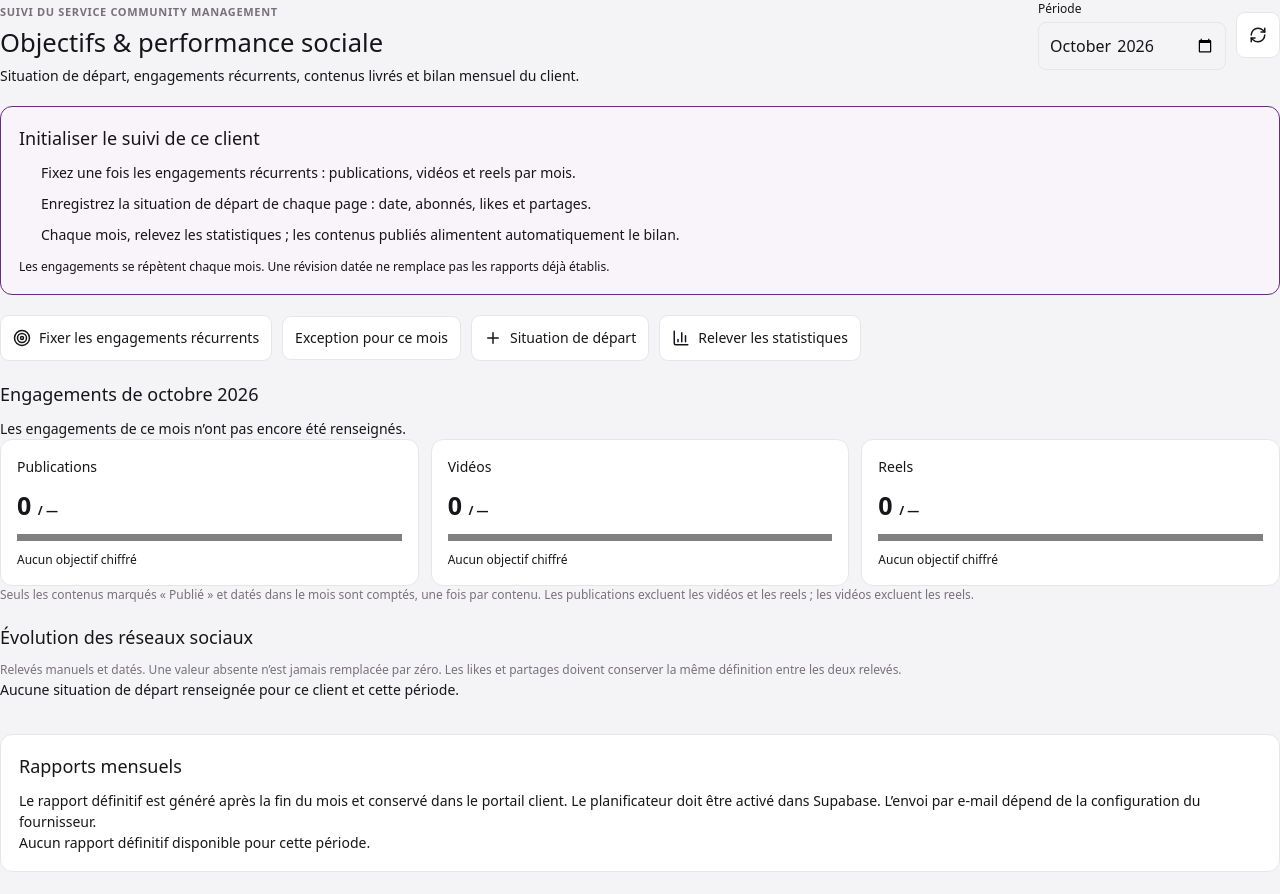
it: tableau de bord contractuel du client › enregistre un contrat une fois, sans le transformer en objectif uniquement mensuel
Step 1. Click the button "Fixer les engagements récurrents" → (136, 338), box [0,315,272,361]
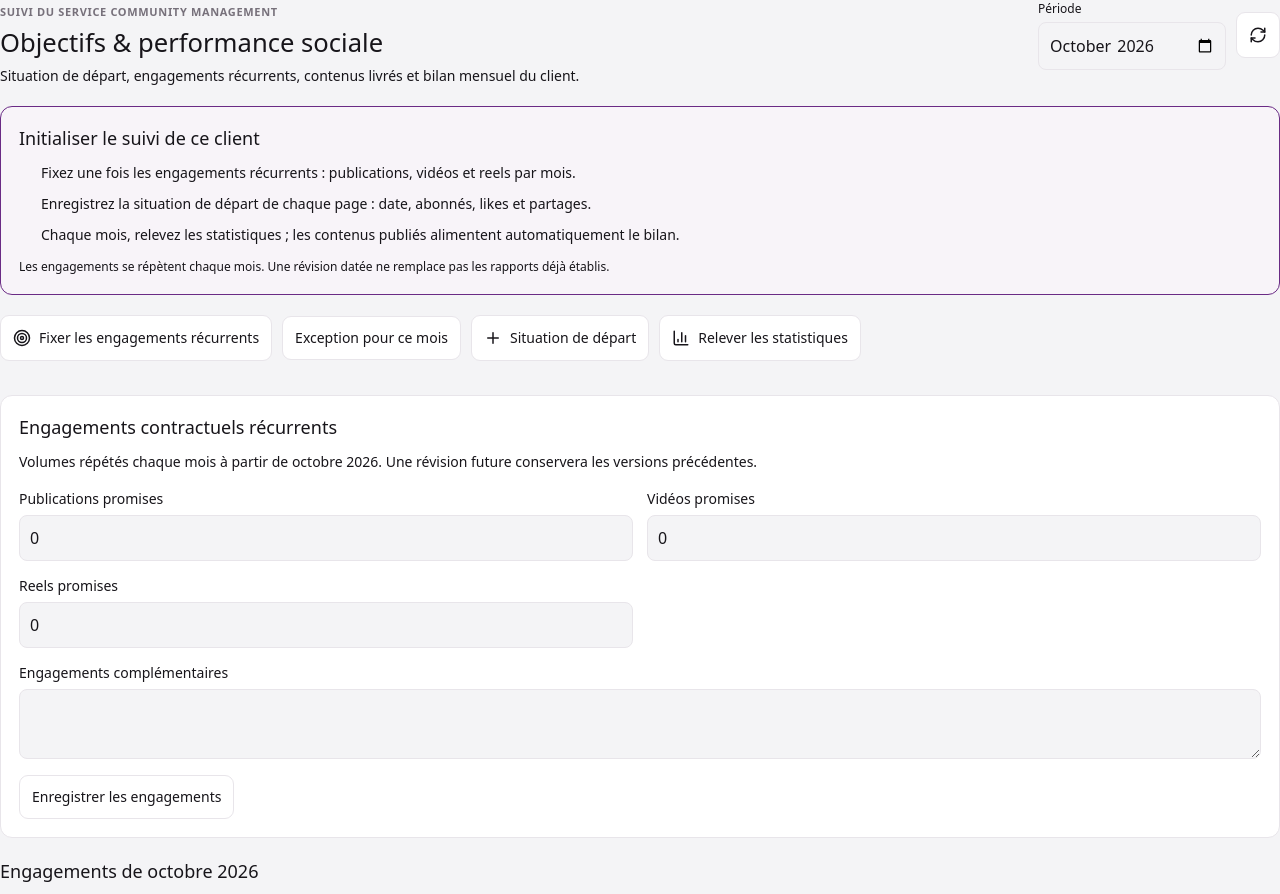
Step 2. Replace the text in the number field labelled "Publications promises" with "12" → (326, 538), box [19,515,633,561]
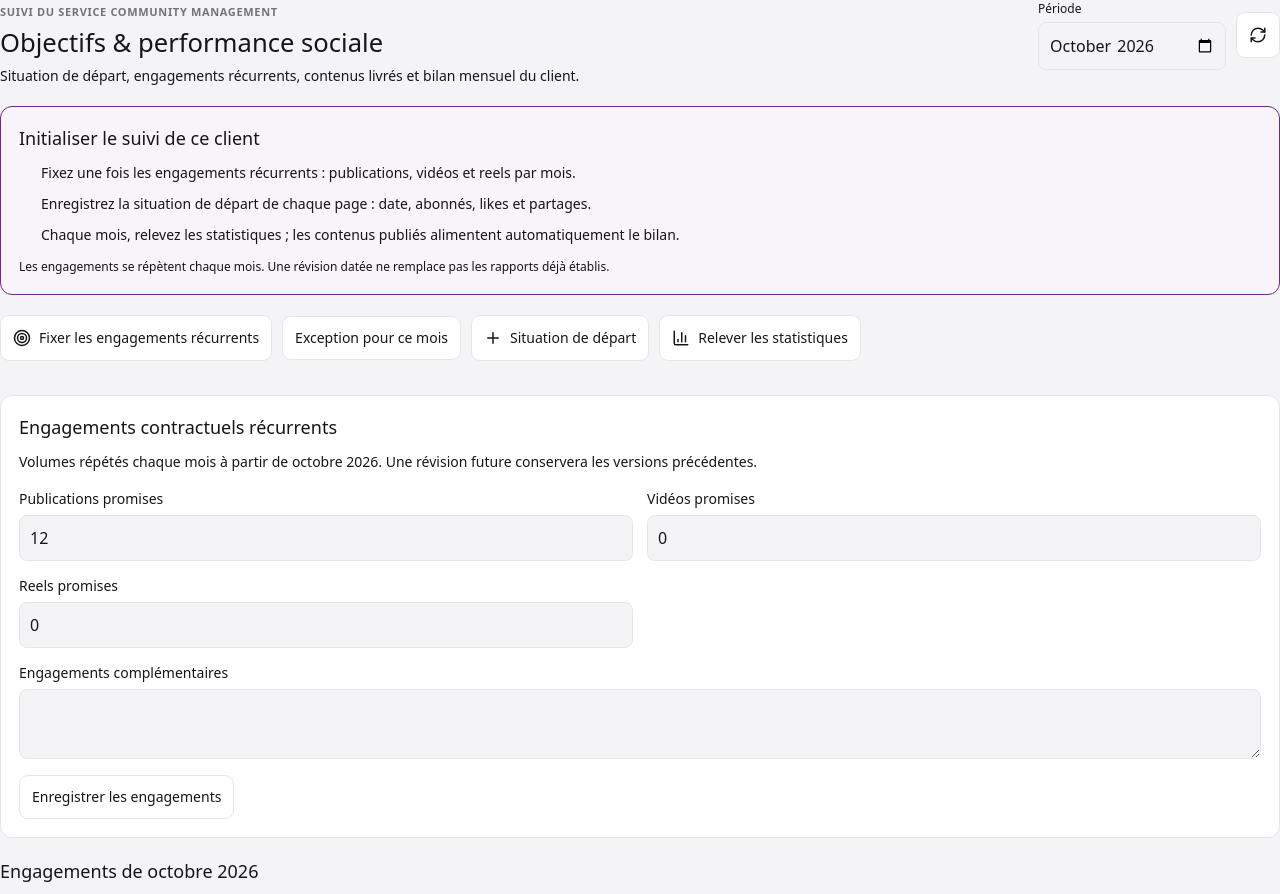
Step 3. Replace the text in the number field labelled "Vidéos promises" with "2" → (954, 538), box [647,515,1261,561]
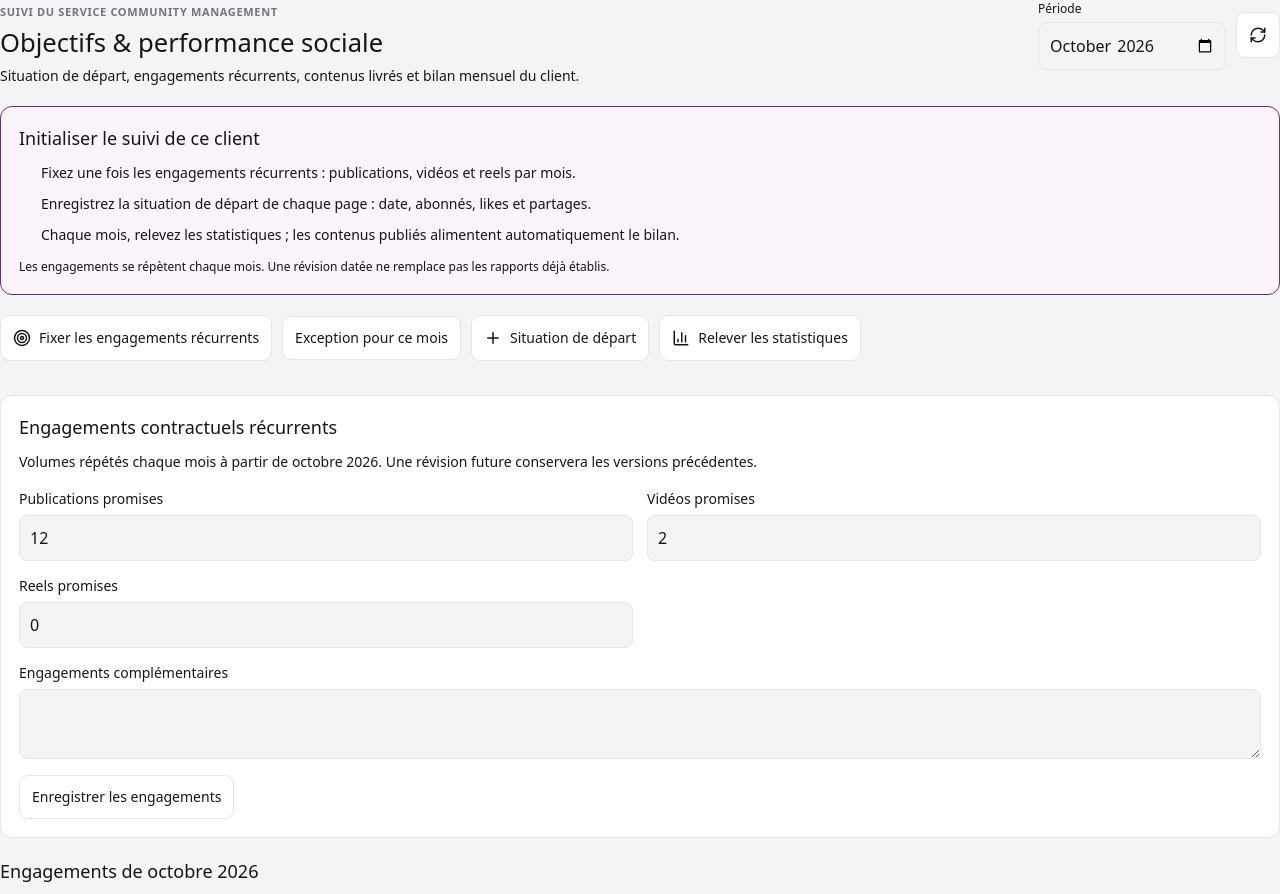
Step 4. Replace the text in the number field labelled "Reels promises" with "4" → (326, 625), box [19,602,633,648]
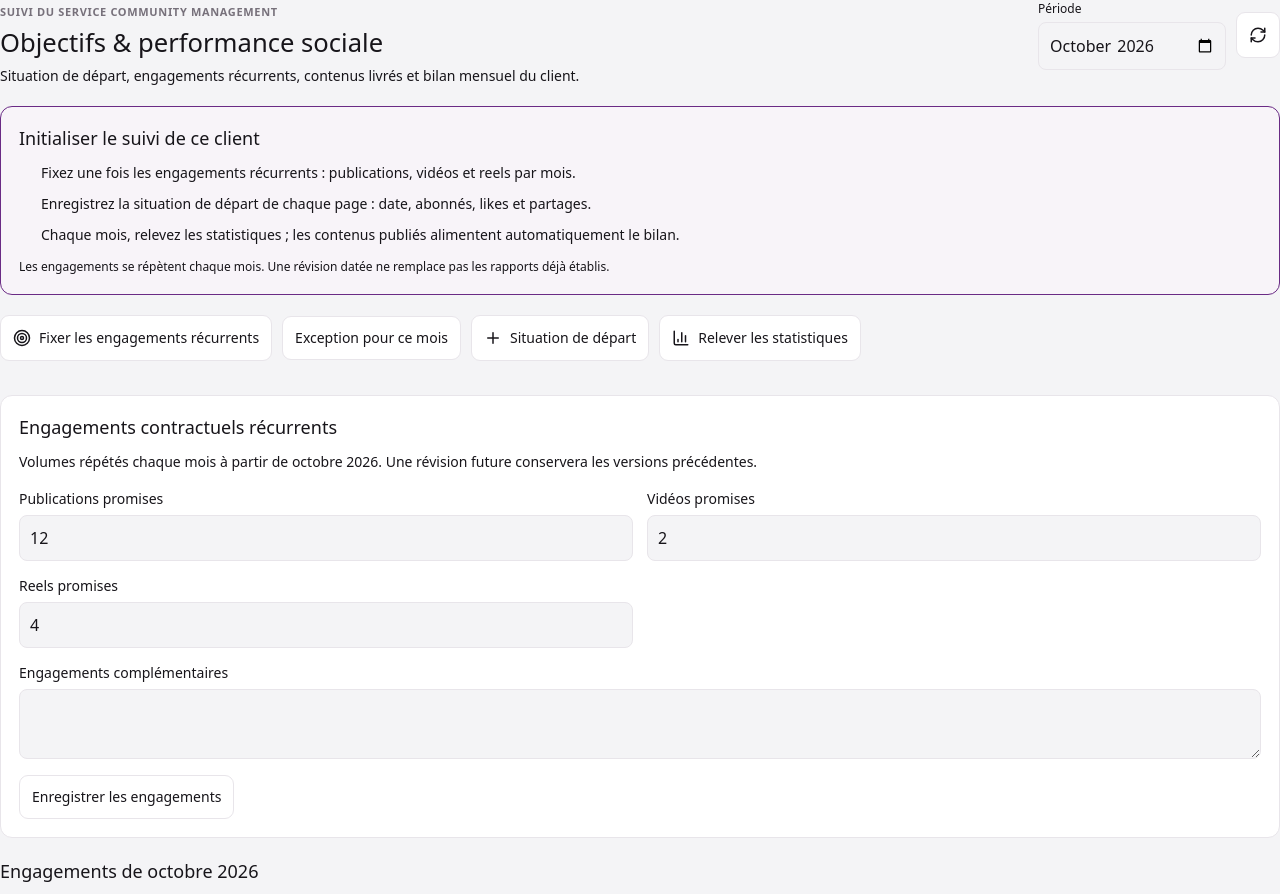
Step 5. Click the button "Enregistrer les engagements" → (127, 797), box [19,775,234,819]
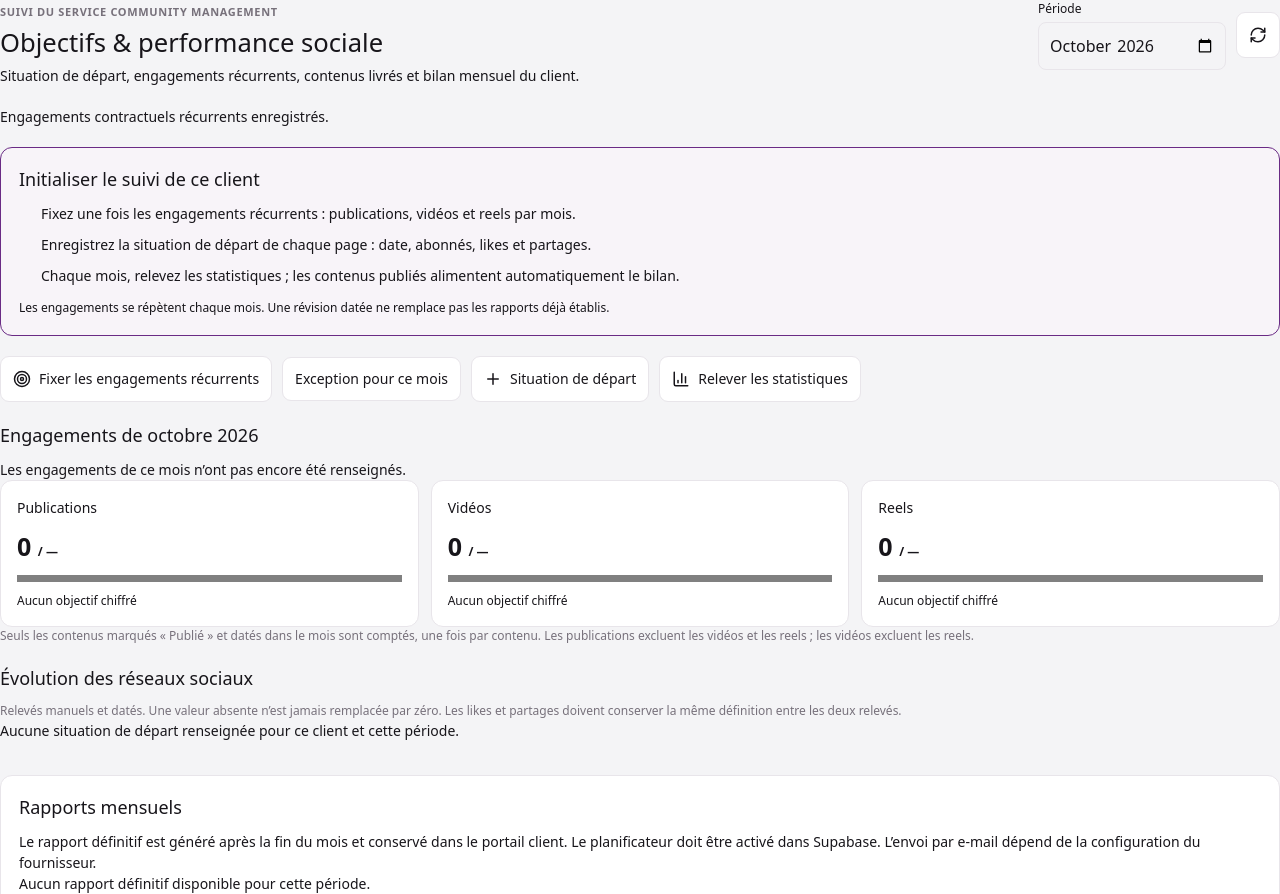
expect the text "Engagements contractuels récurrents enregistrés." is shown: met, box [0,107,329,126]
